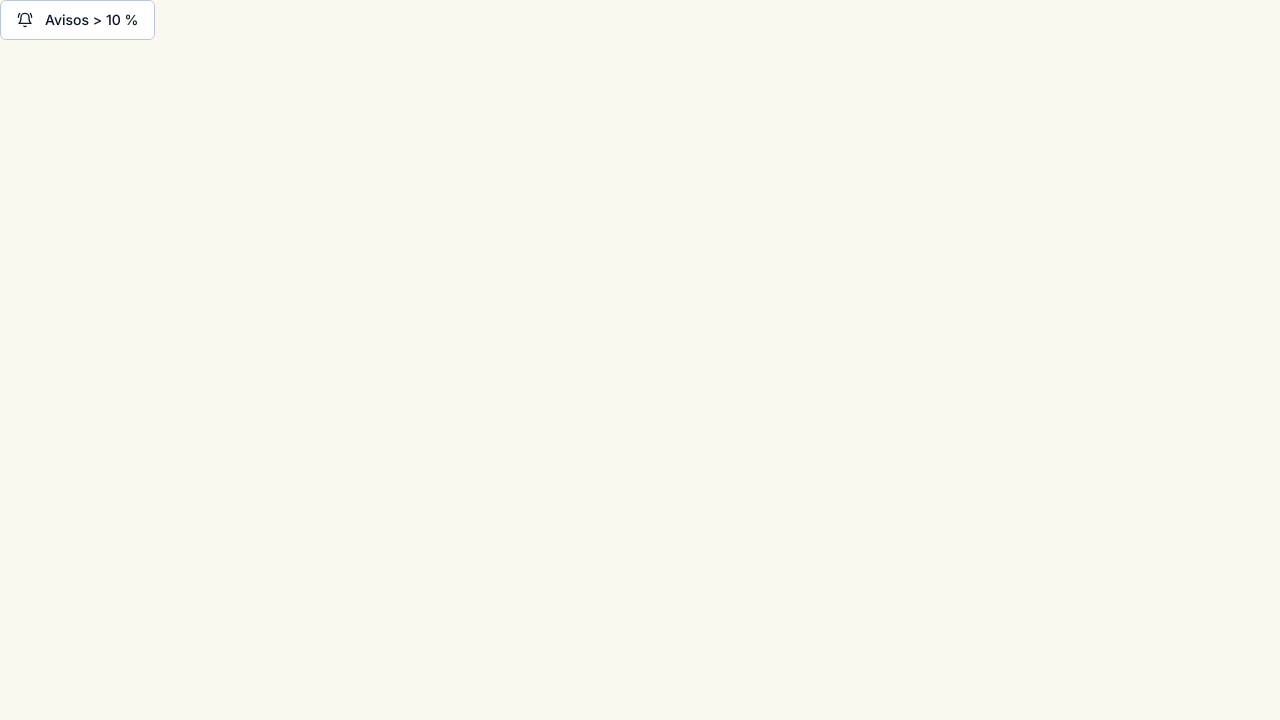
AvisosPrecio › enseña el umbral y lo guarda con coma decimal
Later steps or results of the test are not shown.
Click the button with aria-label "Avisos de subida de precio" at (78, 20), box [0, 0, 155, 40]
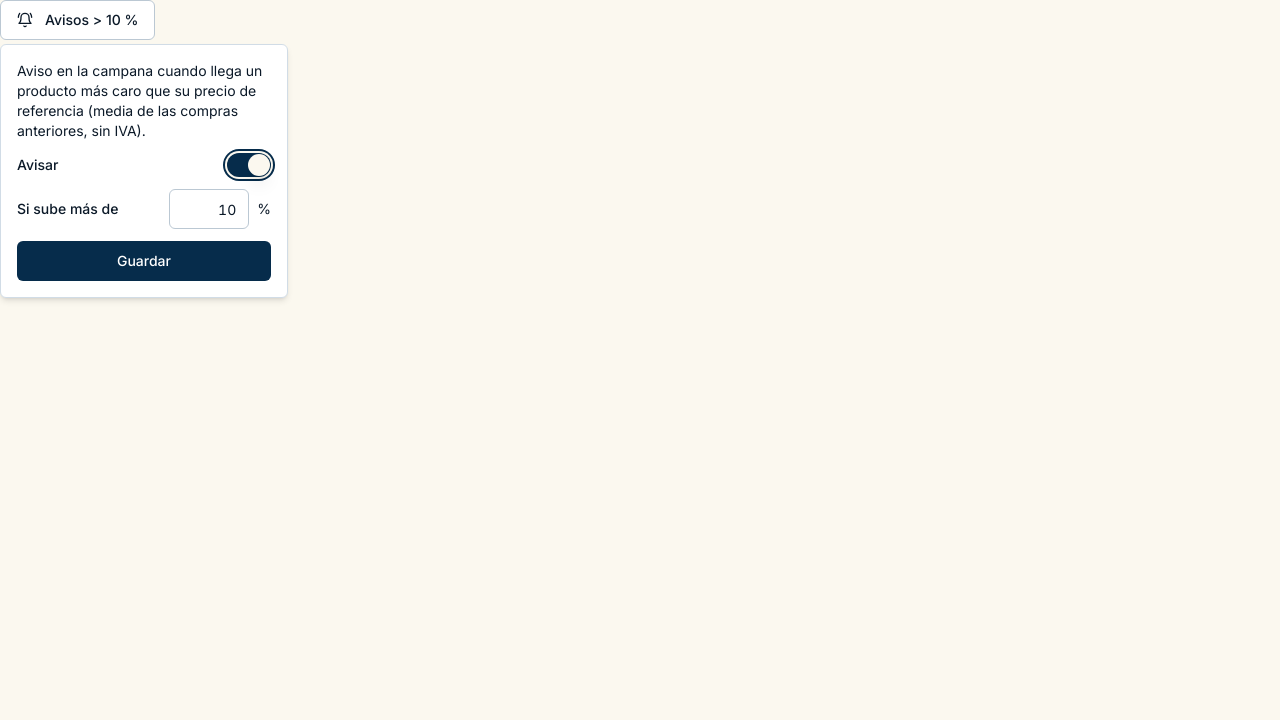
Expected: the field labelled "Si sube más de" holds "10", [169, 189, 249, 229]
